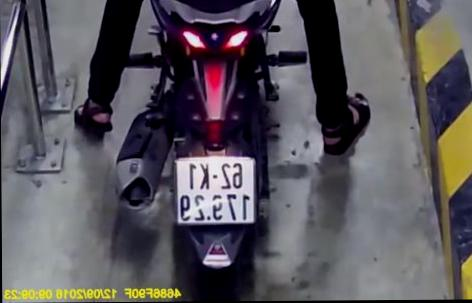License_Plate: (170, 154, 259, 232)
